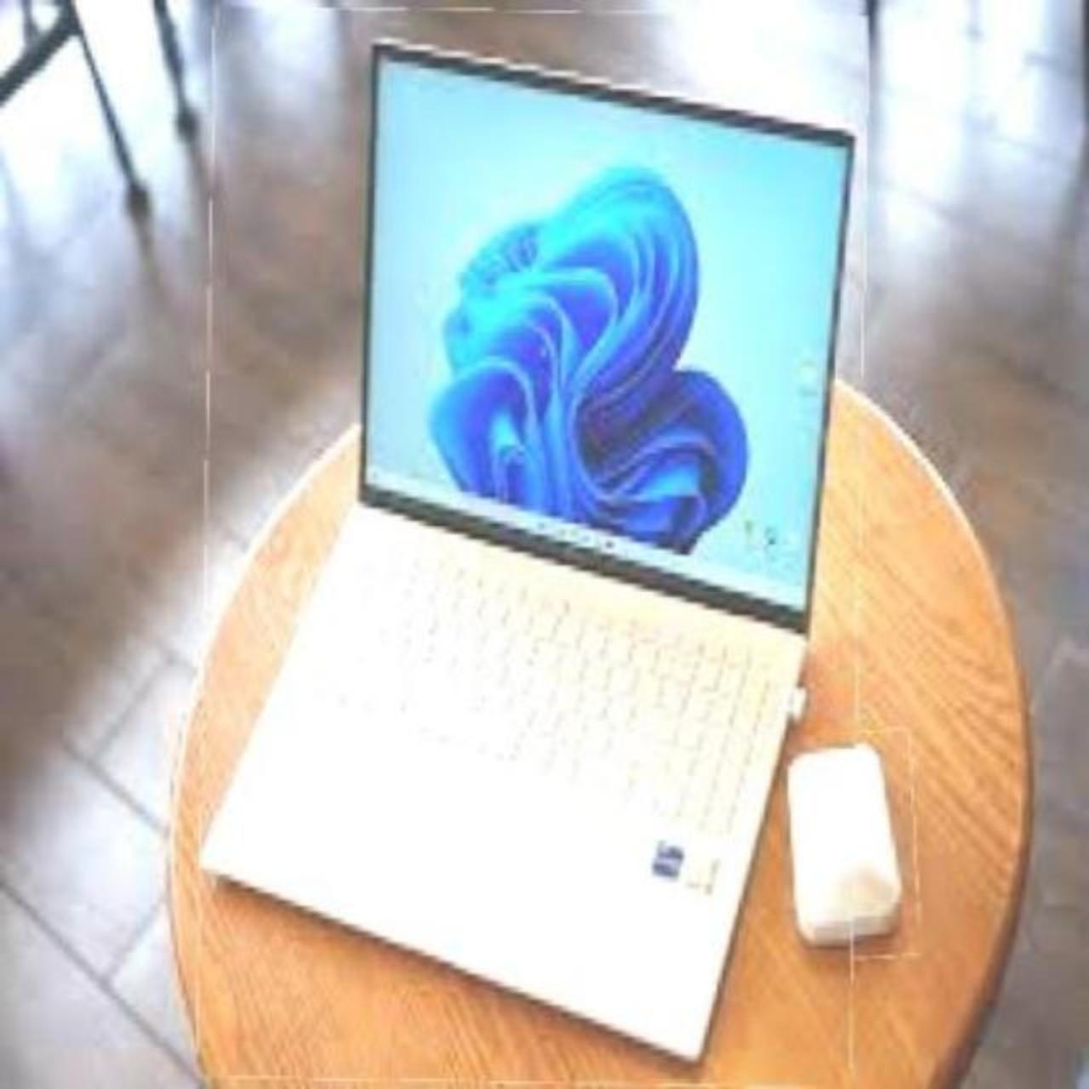laptop: (202, 9, 864, 1086)
